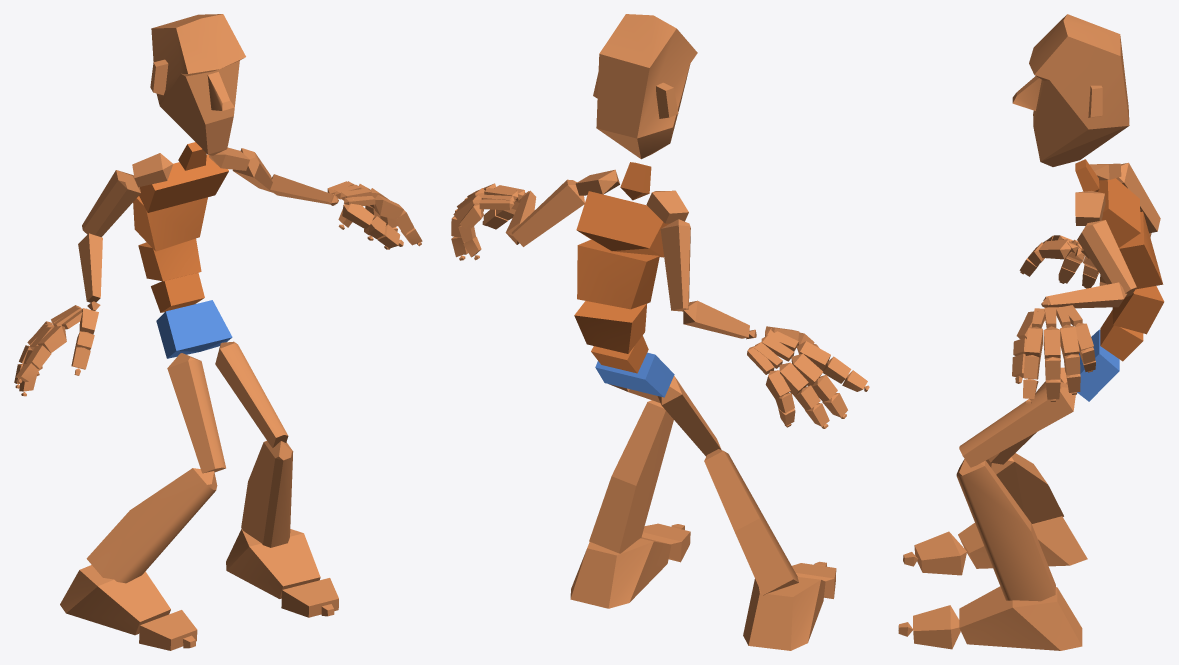
File: prueba195.obj
The picture shows the model from 3 angles, left to right: view 1: azimuth 30°, elevation 25°; view 2: azimuth 150°, elevation 25°; view 3: azimuth 270°, elevation 25°; orthographic projection. The views are drawn at different scales.
Visible parts, largest first — view 1: BOPED_Head, BOPED_R_leg, BOPED_R_foot, BOPED_L_leg, BOPED_R_foot01, BOPED_R_legup, Bone01, BOPED_L_legup, Bone04, Bone05, BOPED_R_arm_upper, Bone03 (+8 smaller); view 2: BOPED_Head, BOPED_L_leg, BOPED_R_leg, BOPED_R_foot01, BOPED_R_foot, Bone04, Bone05, Bone03, BOPED_R_arm_upper, BOPED_L_arm_upper, BOPED_R_legup, Bone01 (+8 smaller); view 3: BOPED_Head, BOPED_L_leg, BOPED_R_foot01, BOPED_L_legup, BOPED_R_leg, BOPED_R_foot, BOPED_L_arm_upper, Bone05, BOPED_R_foot_toe01, Bone04, Bone03, BOPED_R_foot_toe04 (+12 smaller).
Boxes of the visible parts, left/top/right/bottom form: BOPED_Head: left=150, top=14, right=245, bottom=155; BOPED_R_leg: left=86, top=468, right=217, bottom=583; BOPED_R_foot: left=60, top=565, right=170, bottom=635; BOPED_L_leg: left=241, top=441, right=293, bottom=547; BOPED_R_foot01: left=226, top=529, right=320, bottom=598; BOPED_R_legup: left=167, top=353, right=225, bottom=473; Bone01: left=156, top=300, right=232, bottom=358; BOPED_L_legup: left=215, top=341, right=288, bottom=447; Bone04: left=133, top=196, right=207, bottom=251; Bone05: left=139, top=154, right=228, bottom=212; BOPED_R_arm_upper: left=82, top=170, right=140, bottom=237; Bone03: left=138, top=238, right=201, bottom=281; BOPED_Head: left=593, top=14, right=697, bottom=159; BOPED_L_leg: left=589, top=400, right=673, bottom=553; BOPED_R_leg: left=704, top=449, right=798, bottom=595; BOPED_R_foot01: left=570, top=537, right=671, bottom=608; BOPED_R_foot: left=743, top=577, right=825, bottom=650; Bone04: left=577, top=240, right=659, bottom=309; Bone05: left=576, top=191, right=670, bottom=257; Bone03: left=574, top=301, right=646, bottom=353; BOPED_R_arm_upper: left=660, top=219, right=690, bottom=311; BOPED_L_arm_upper: left=511, top=179, right=584, bottom=246; BOPED_R_legup: left=657, top=376, right=721, bottom=456; Bone01: left=595, top=352, right=674, bottom=397; BOPED_Head: left=1012, top=14, right=1129, bottom=166; BOPED_L_leg: left=956, top=459, right=1055, bottom=601; BOPED_R_foot01: left=959, top=586, right=1082, bottom=650; BOPED_L_legup: left=959, top=382, right=1075, bottom=467; BOPED_R_leg: left=986, top=453, right=1063, bottom=523; BOPED_R_foot: left=958, top=516, right=1087, bottom=568; BOPED_L_arm_upper: left=1077, top=220, right=1136, bottom=297; Bone05: left=1098, top=178, right=1140, bottom=247; BOPED_R_foot_toe01: left=914, top=531, right=966, bottom=575; Bone04: left=1119, top=211, right=1163, bottom=289; Bone03: left=1112, top=286, right=1164, bottom=334; BOPED_R_foot_toe04: left=913, top=605, right=960, bottom=649.
Bounding box in the file's own units: 130 × 175 × 71.45.
